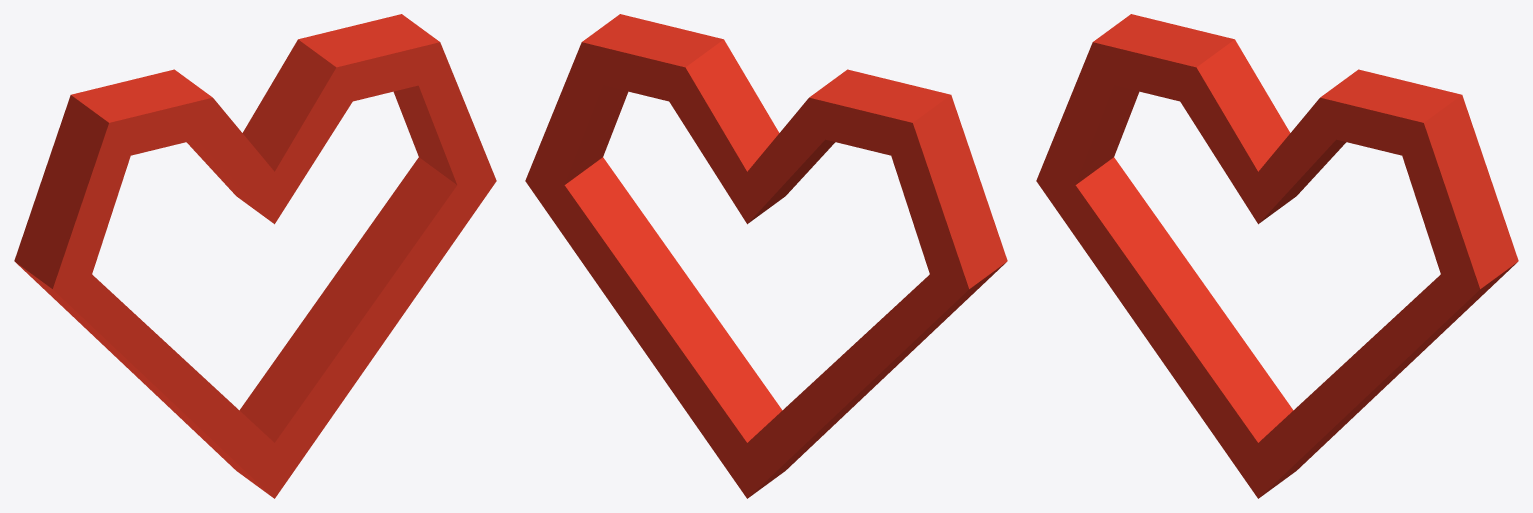
The model's file is Icon_Heart_02.fbx.
The picture shows the model from 3 angles, left to right: view 1: azimuth 30°, elevation 25°; view 2: azimuth 150°, elevation 25°; view 3: azimuth 330°, elevation 25°; orthographic projection.
Parts seen in each view (by area): view 1: Icon_Heart_02; view 2: Icon_Heart_02; view 3: Icon_Heart_02.
Boxes of the visible parts, bbox=[...] form: Icon_Heart_02: bbox=[14, 14, 496, 498]; Icon_Heart_02: bbox=[525, 14, 1007, 498]; Icon_Heart_02: bbox=[1036, 14, 1518, 498].
Size of the model in its own units: 80.43 by 72.08 by 12.06.
